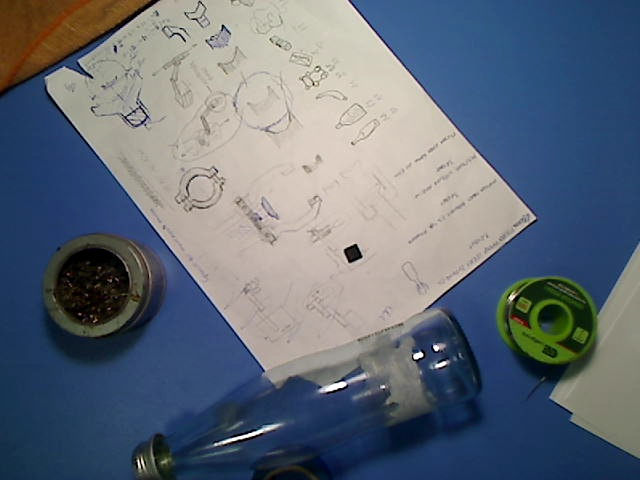bottle: (129, 306, 486, 478)
